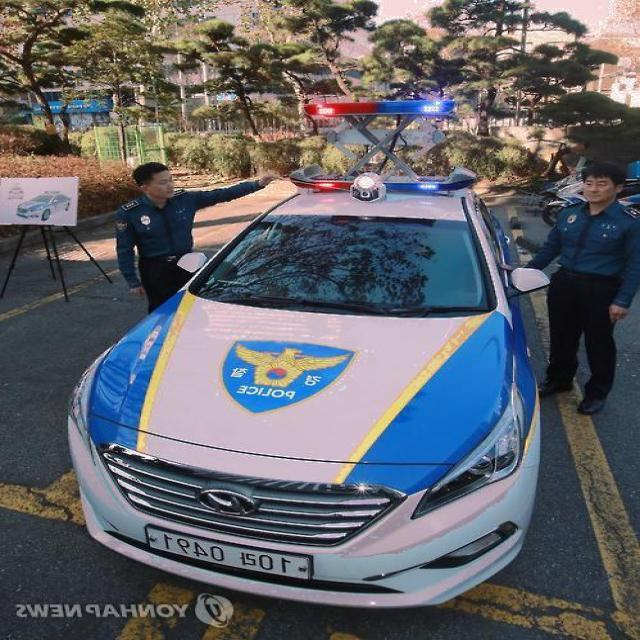fire_truck: (69, 173, 553, 606)
